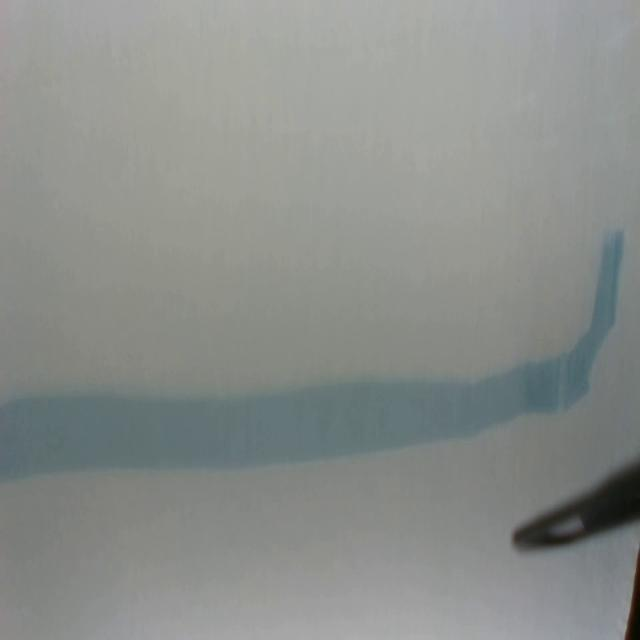color bleeding: (0, 228, 627, 481)
